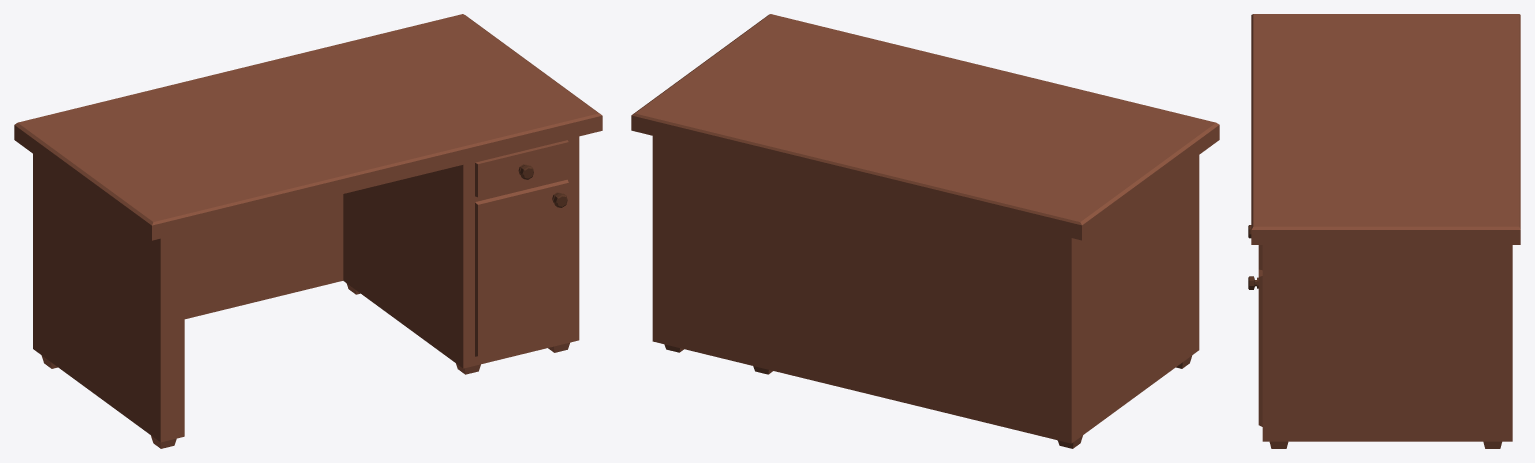
Rendered from office_table.fbx.
3 views of the same model, side by side, from view 1: azimuth 30°, elevation 25°; view 2: azimuth 150°, elevation 25°; view 3: azimuth 270°, elevation 25° (orthographic). The views are drawn at different scales.
Visible parts, largest first — view 1: Desk_01_Cube.037; view 2: Desk_01_Cube.037; view 3: Desk_01_Cube.037.
Boxes of the visible parts, x1,y1,x2,y2 form: Desk_01_Cube.037: (14, 14, 602, 448); Desk_01_Cube.037: (631, 14, 1219, 448); Desk_01_Cube.037: (1248, 14, 1520, 448).
Size of the model in its own units: 994 by 501 by 531.
